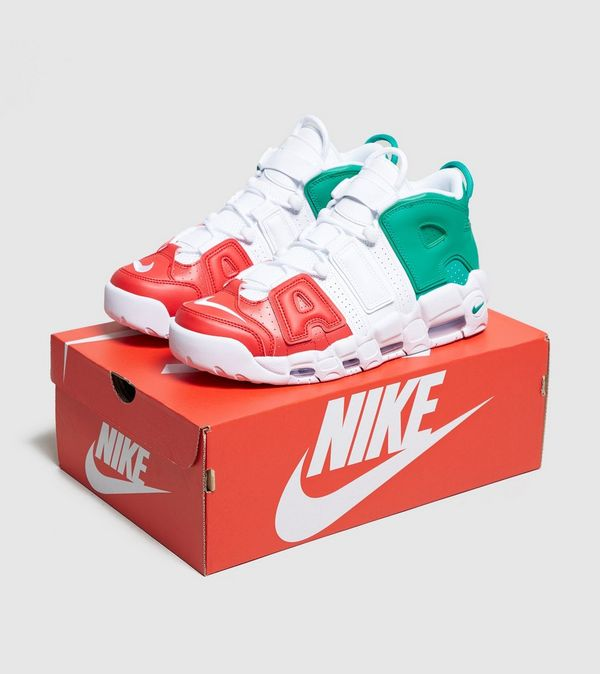Nike Air Uptempo '96 Italy: (95, 109, 408, 346), (189, 148, 495, 388)
